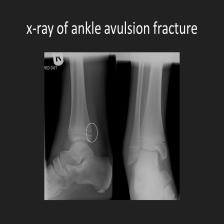avulsion-fracture: (47, 55, 181, 201)
